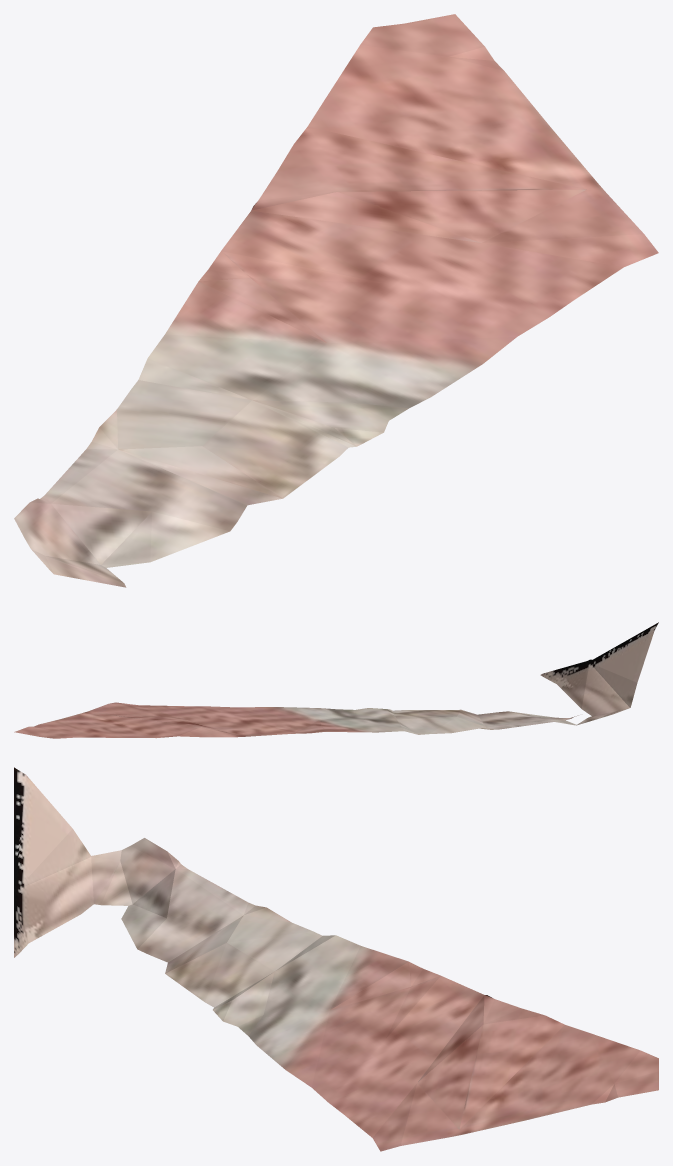
3 renders of one model, top to bottom at view 1: azimuth 30°, elevation 25°; view 2: azimuth 150°, elevation 25°; view 3: azimuth 270°, elevation 25°, orthographic. The views are drawn at different scales.
Size of the model in its own units: 3.35 by 0.6404 by 3.35.
Materials: 1 (1 with a texture image).
